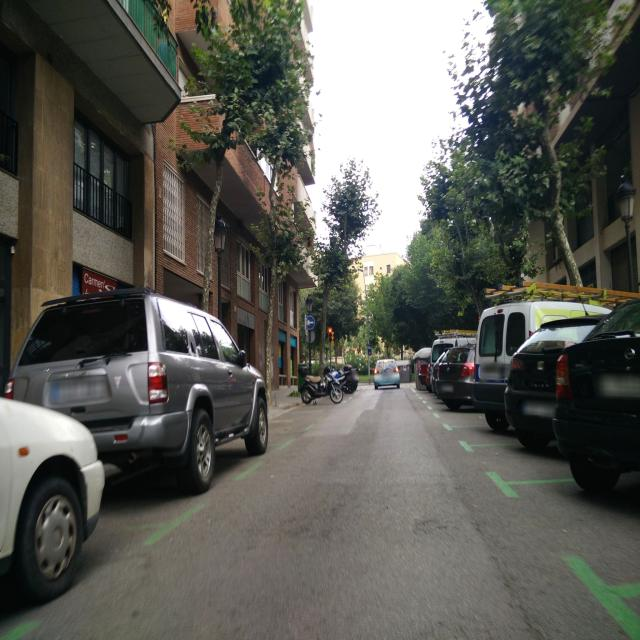bike: (299, 362, 343, 406)
car: (2, 285, 268, 496), (0, 356, 106, 613), (473, 286, 633, 436), (553, 288, 640, 498), (503, 312, 622, 450), (433, 341, 478, 411), (426, 334, 474, 394), (373, 358, 401, 390), (414, 346, 432, 390)
